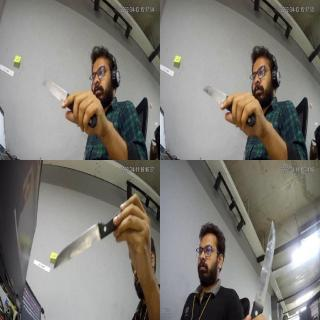knife: (52, 223, 104, 273), (254, 221, 278, 319), (40, 78, 70, 110), (202, 84, 229, 110)
